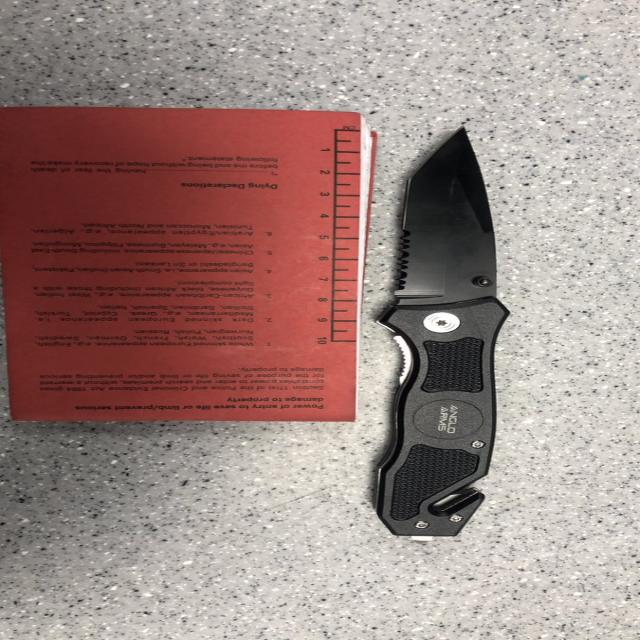Sharp-Object: (381, 124, 507, 546)
